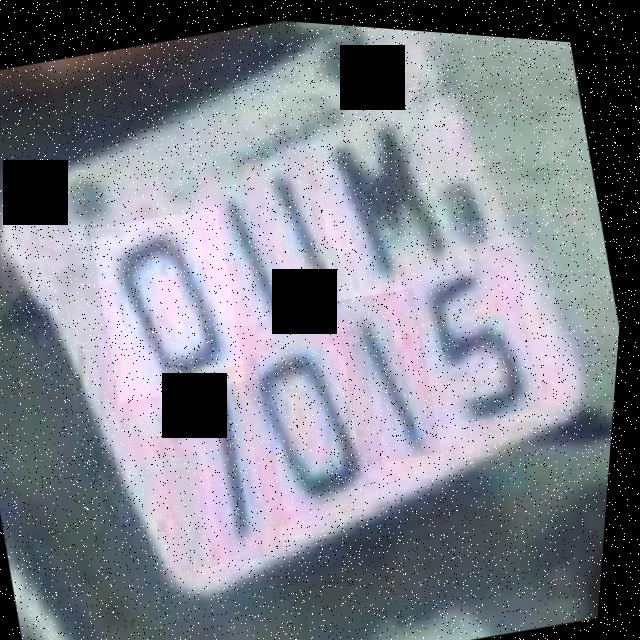0: (226, 292, 410, 530)
1: (329, 276, 457, 464)
5: (394, 227, 555, 426)
7: (143, 351, 311, 574)
M: (297, 80, 490, 303)
O: (83, 196, 261, 408)
U: (183, 124, 381, 351)
